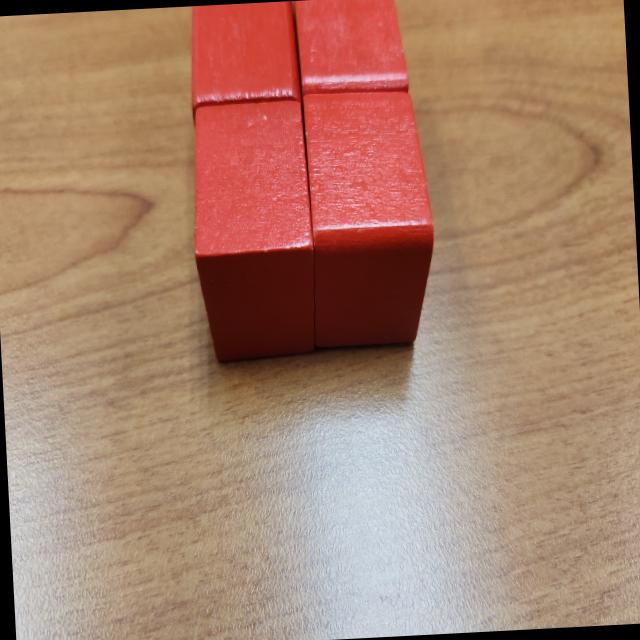red: (302, 85, 442, 353), (187, 100, 318, 370), (181, 0, 303, 132), (293, 0, 409, 97)
